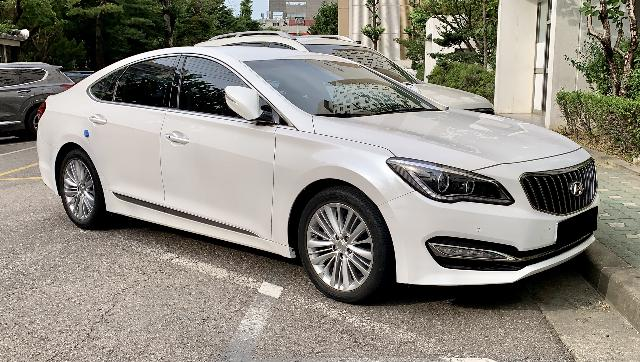hyundai: (36, 45, 600, 323)
